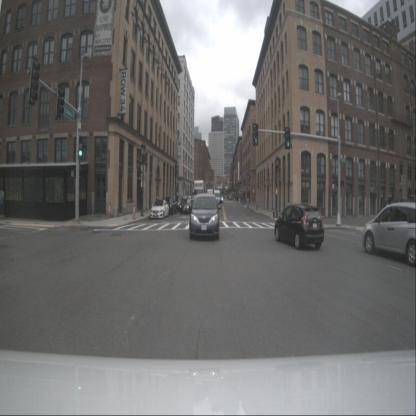cone: (107, 203, 111, 219), (132, 204, 136, 220)
